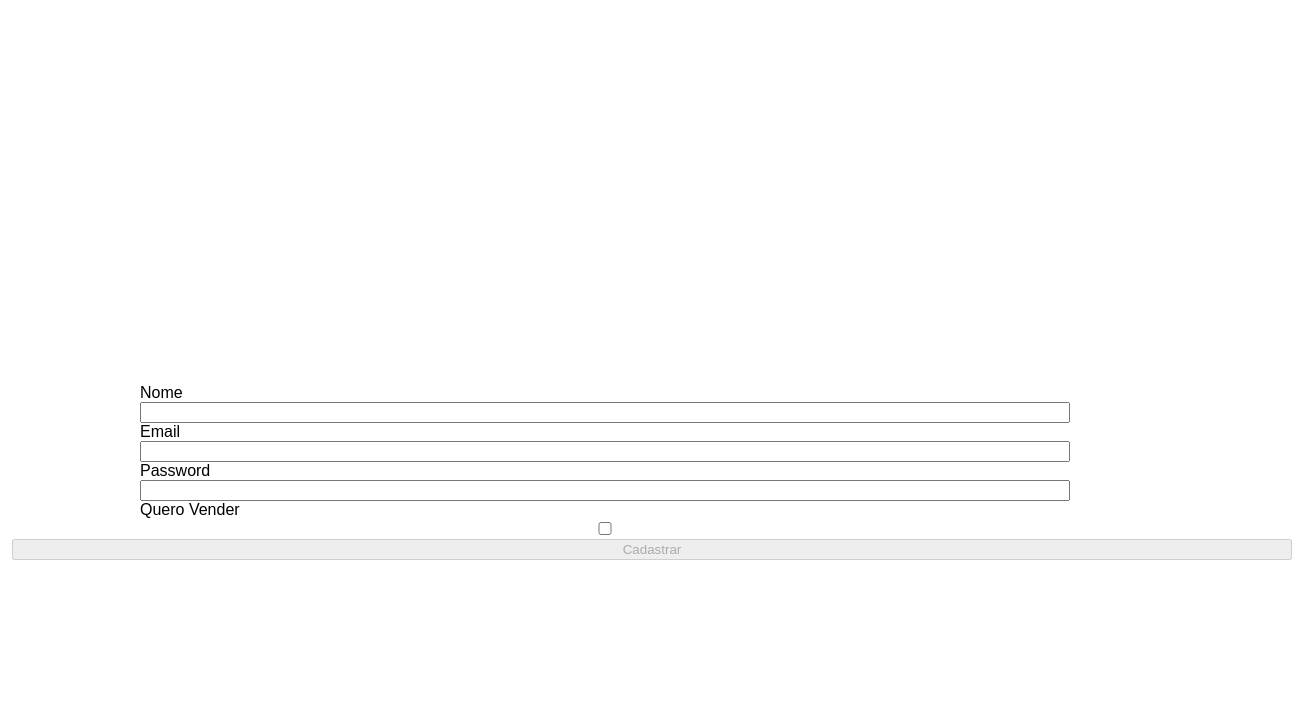
Testing Register Page › Testing if register fail
Type "Felipe Andrade" into the field with test id "signup-name" at [605, 412], box [140,402,1070,423]
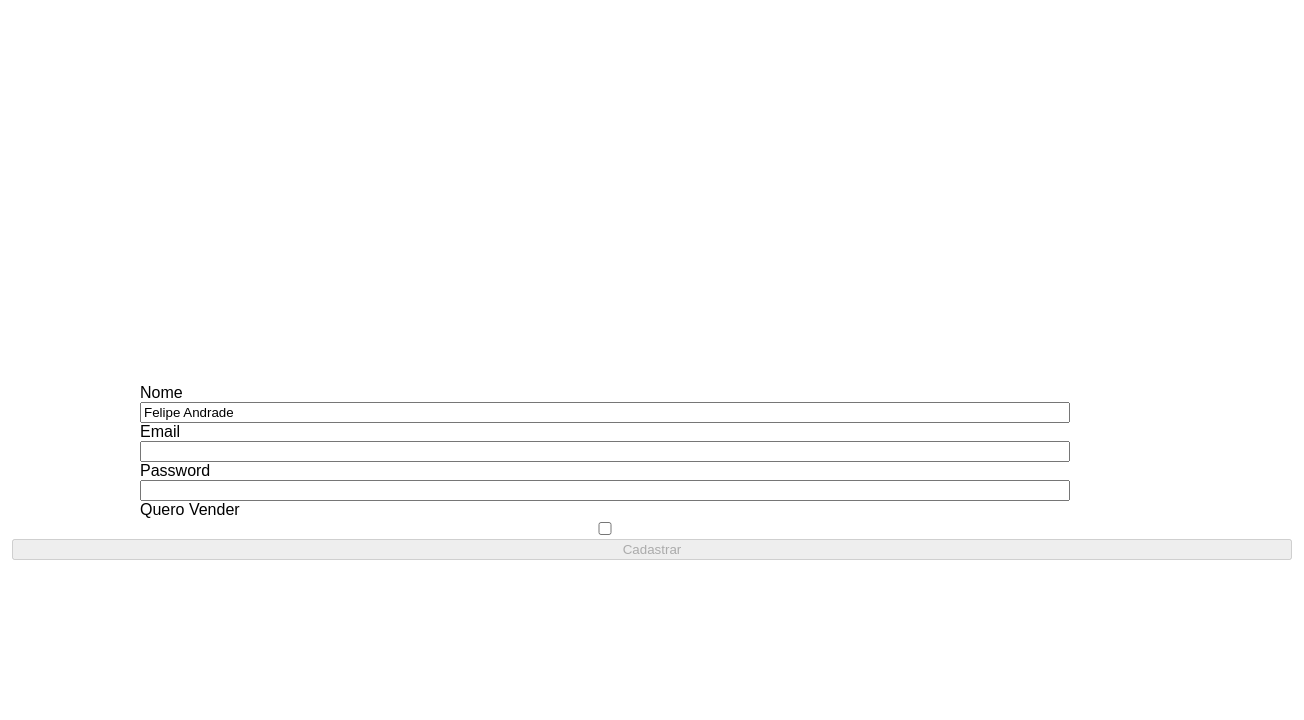
Type "lipe@lipe.com" into the field with test id "signup-email" at [605, 452], box [140,441,1070,462]
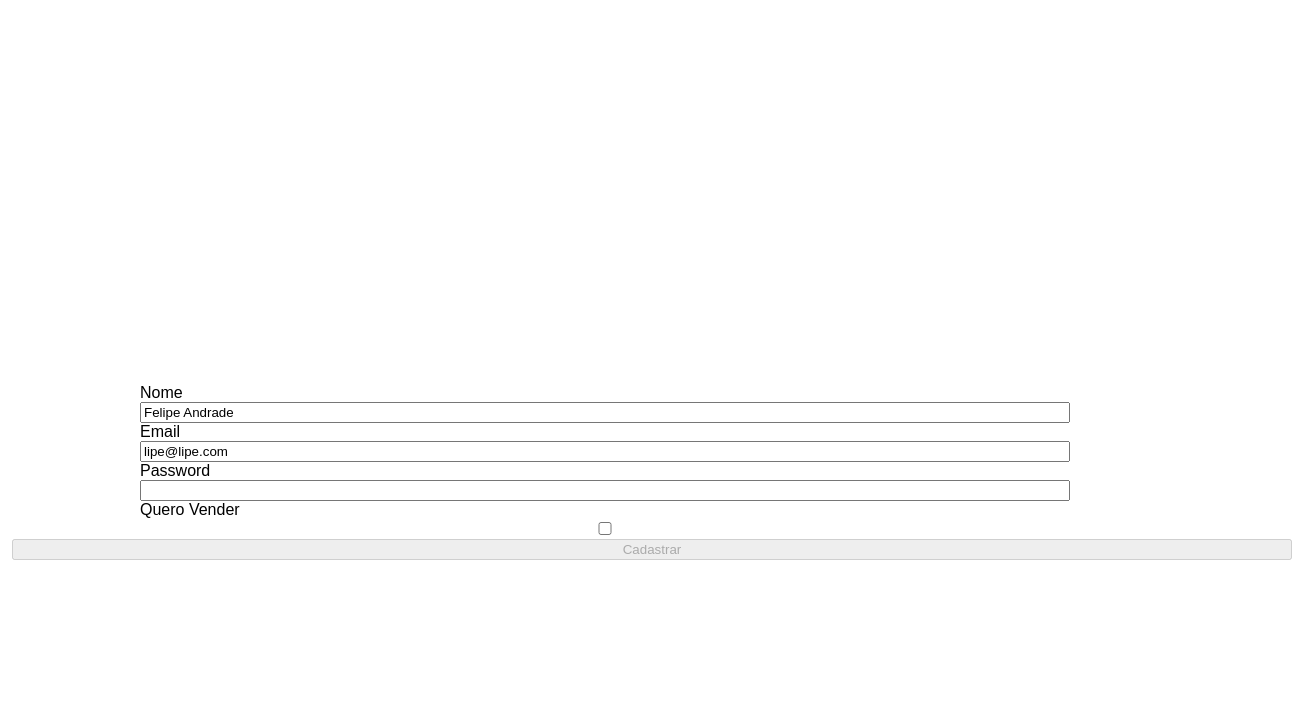
Type "123456" into the password field with test id "signup-password" at [605, 490], box [140,480,1070,501]
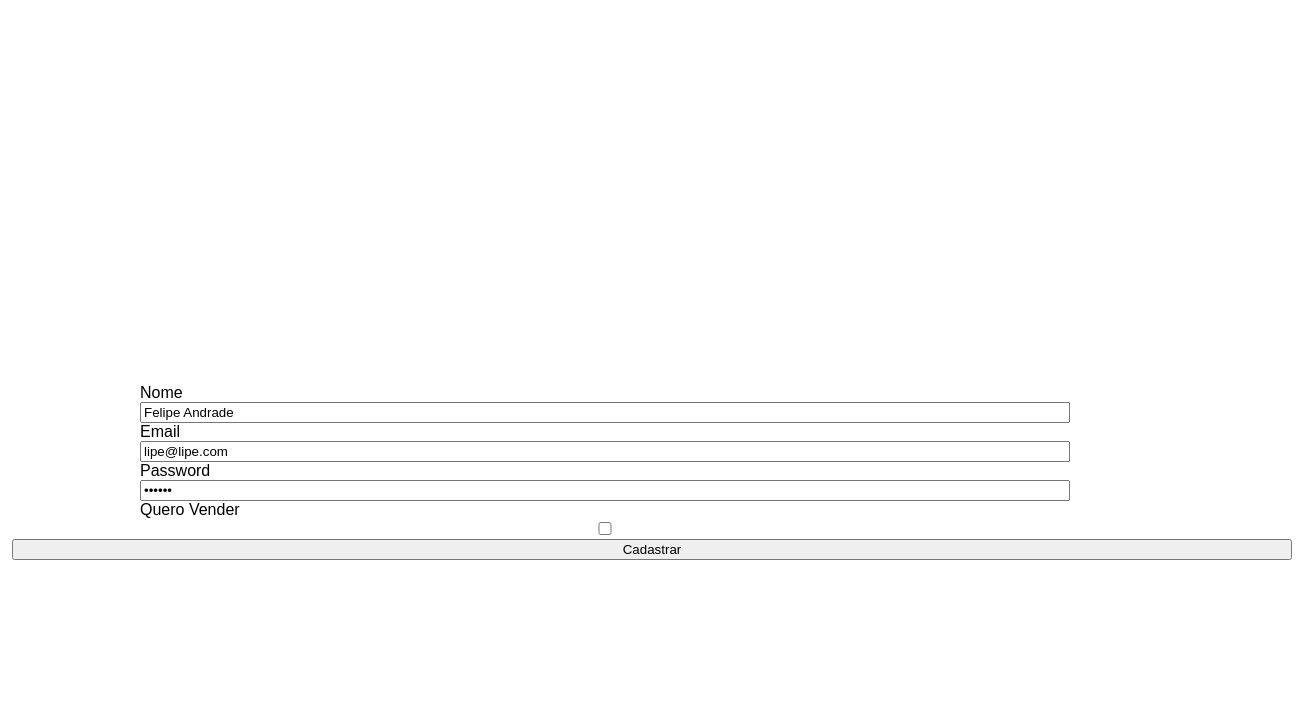
Result: the button with test id "signup-btn" is enabled
Click the button with test id "signup-btn" at [652, 550], box [12,539,1292,560]
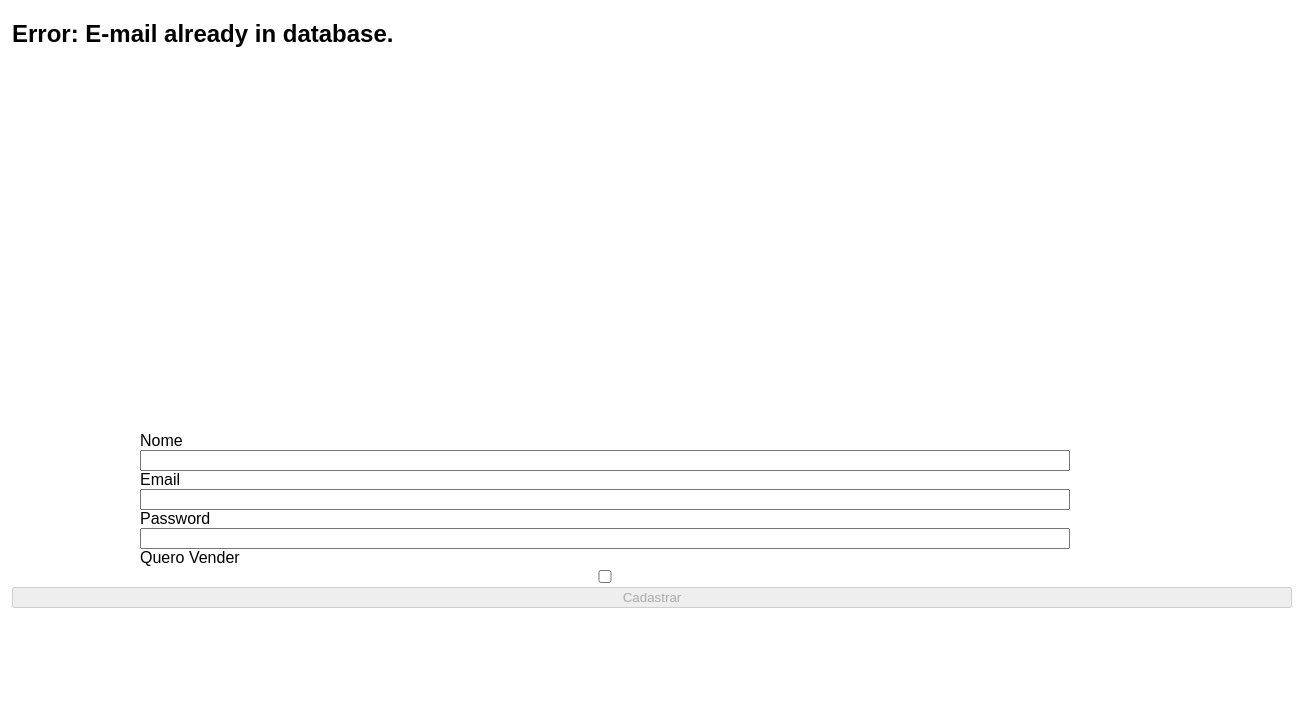
Result: the heading "Error: E-mail already in database." is shown at [12,20,394,47]
